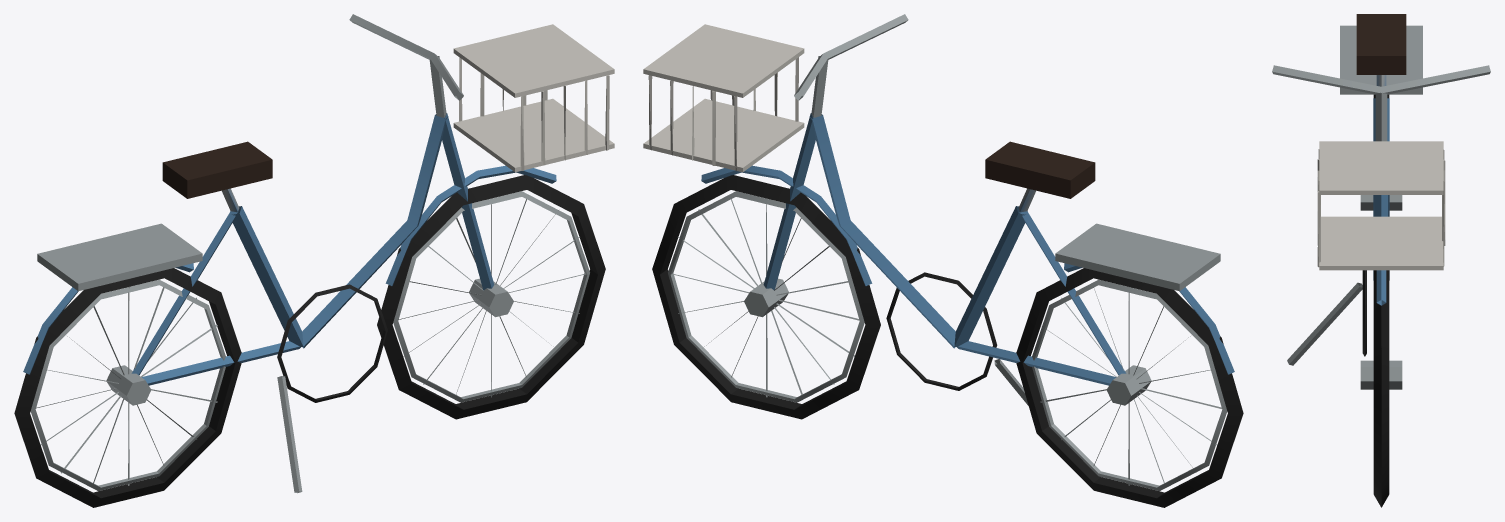
The model's file is xe_dap.glb.
3 views of the same model, side by side, from view 1: azimuth 30°, elevation 25°; view 2: azimuth 150°, elevation 25°; view 3: azimuth 270°, elevation 25° (orthographic).
Parts seen in each view (by area): view 1: xe_dap; view 2: xe_dap; view 3: xe_dap.
Part boxes in pixels (x1,y1,x2,y2): xe_dap: (14, 14, 614, 507); xe_dap: (643, 14, 1243, 507); xe_dap: (1272, 14, 1490, 507).
Size of the model in its own units: 1.66 by 1.02 by 0.5271.
